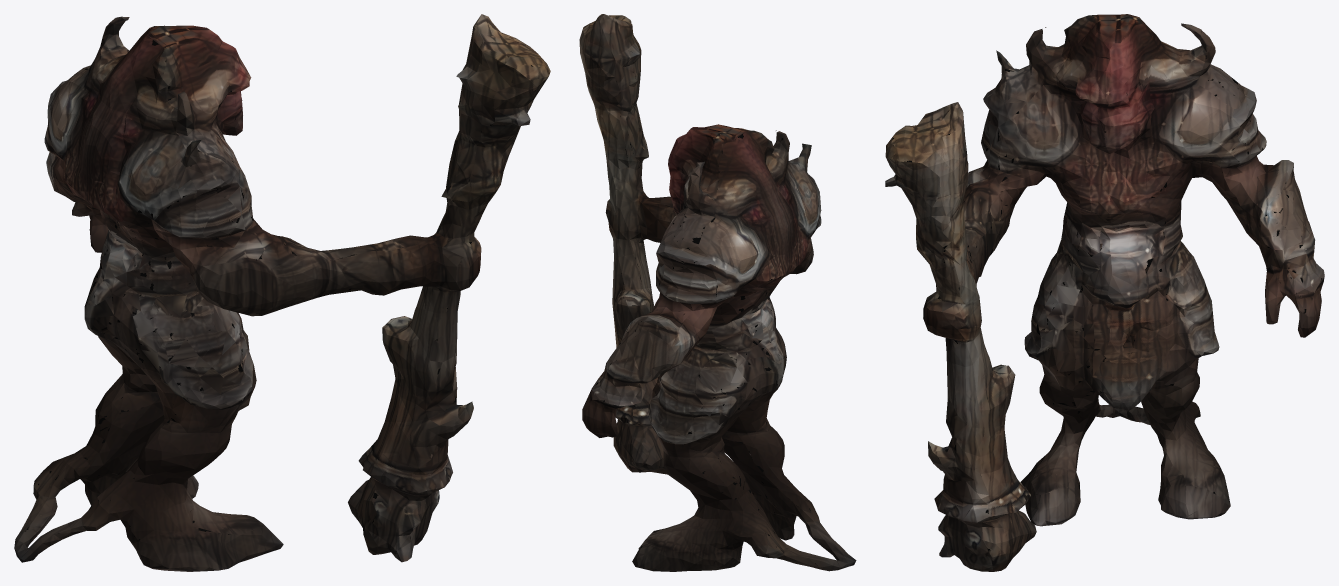
The model's file is monster_tauren_2.glb.
3 views of the same model, side by side, from view 1: azimuth 30°, elevation 25°; view 2: azimuth 150°, elevation 25°; view 3: azimuth 270°, elevation 25° (orthographic). The views are drawn at different scales.
Parts seen in each view (by area): view 1: zzzz13; view 2: zzzz13; view 3: zzzz13.
Boxes of the visible parts, <box> form: zzzz13: <box>14,14,550,571</box>; zzzz13: <box>579,14,856,571</box>; zzzz13: <box>885,14,1324,571</box>.
Size of the model in its own units: 2.54 by 3.01 by 2.39.
Materials: 1 (1 with a texture image).
